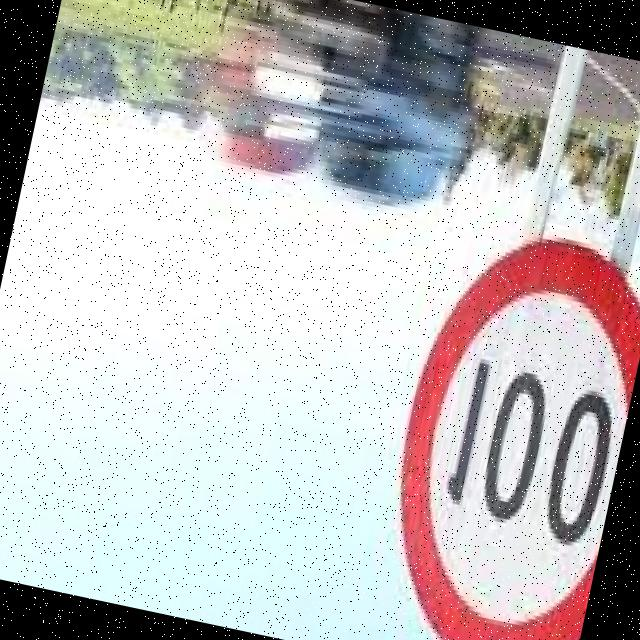speed_limit_100: (345, 211, 640, 640)
